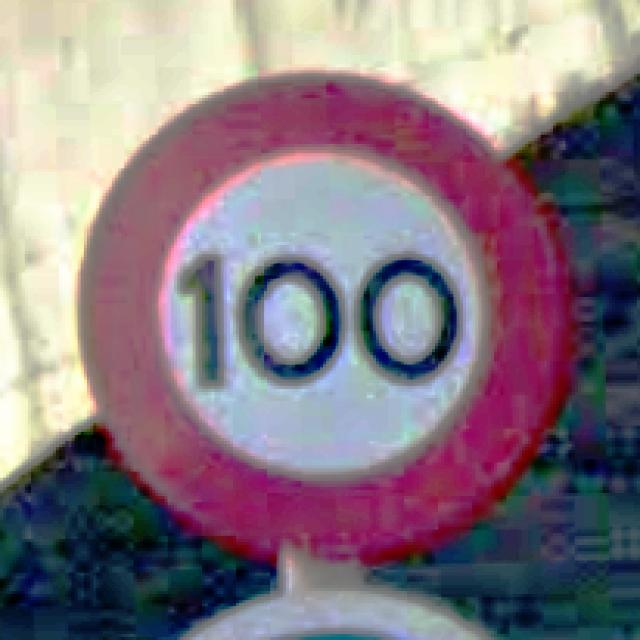max100: (74, 68, 568, 564)
